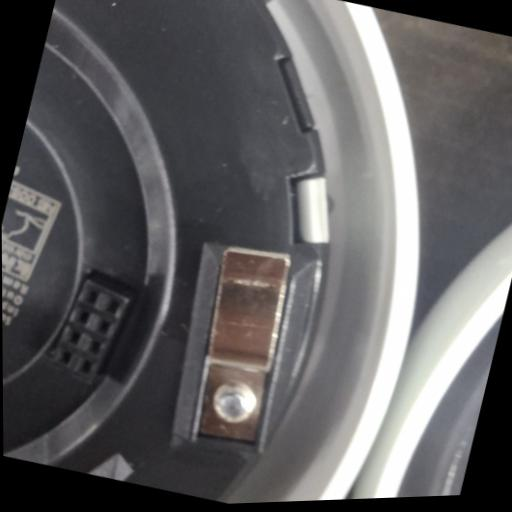yaysiz: (178, 236, 305, 453)
